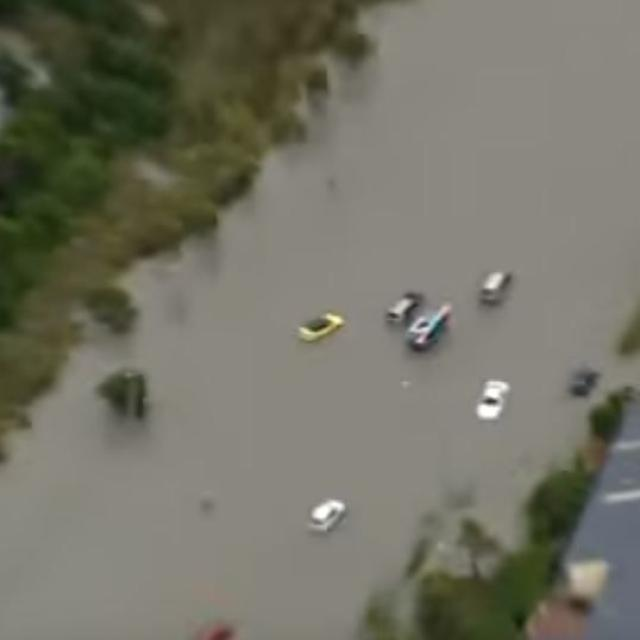flooded_areas: (13, 14, 619, 622)
